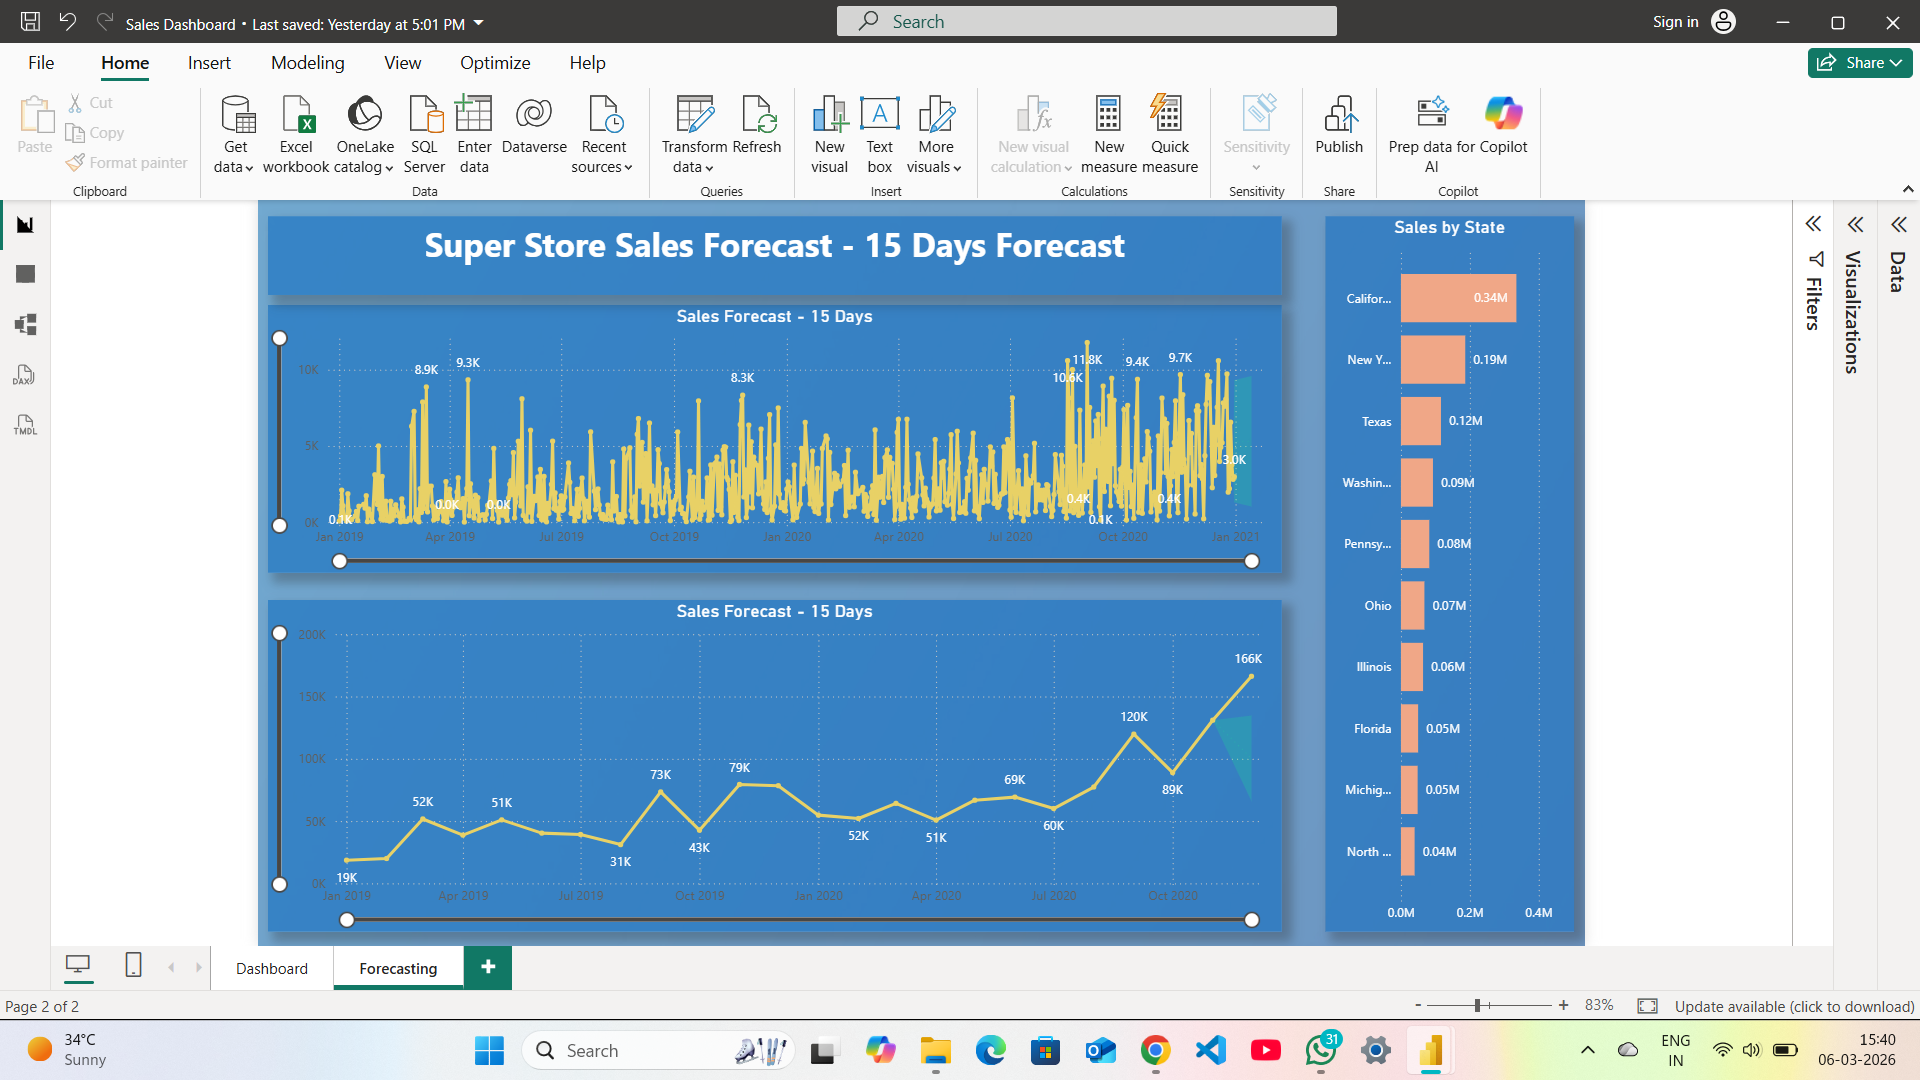

The dashboard page shown, as its layout file describes it:
{"tool":"powerbi","page":{"name":"Forecasting","canvas":[1280,720],"ordinal":1},"visuals":[{"type":"lineChart","title":"Sales Forecast - 15 Days","fields":{"Y":["Sum(SuperStore_Sales_Dataset.Sales)"],"Category":["SuperStore_Sales_Dataset.Order Date"]},"box":[9.7,101.3,978.4,258.2],"z":0},{"type":"clusteredBarChart","title":" Sales by State","fields":{"Category":["SuperStore_Sales_Dataset.State"],"Y":["Sum(SuperStore_Sales_Dataset.Sales)"]},"box":[1030.3,15.7,240.1,704.6],"z":1000},{"type":"lineChart","title":"Sales Forecast - 15 Days","fields":{"Y":["Sum(SuperStore_Sales_Dataset.Sales)"],"Category":["SuperStore_Sales_Dataset.Order Date.Variation.Date Hierarchy.Year","SuperStore_Sales_Dataset.Order Date.Variation.Date Hierarchy.Quarter","SuperStore_Sales_Dataset.Order Date.Variation.Date Hierarchy.Month"]},"box":[9.7,386.1,978.4,319.7],"z":2000},{"type":"textbox","box":[9.7,15.7,978.4,76],"z":3000}]}

Visuals, with their boxes on the page's 1280x720 design canvas (x1, y1, x2, y2). These are canvas units, not pixel positions in the 1920x1080 screenshot, which may show the page scaled, cropped or inside an application window:
"Sales Forecast - 15 Days" lineChart: region(10, 101, 988, 360)
" Sales by State" clusteredBarChart: region(1030, 16, 1270, 720)
"Sales Forecast - 15 Days" lineChart: region(10, 386, 988, 706)
textbox: region(10, 16, 988, 92)
